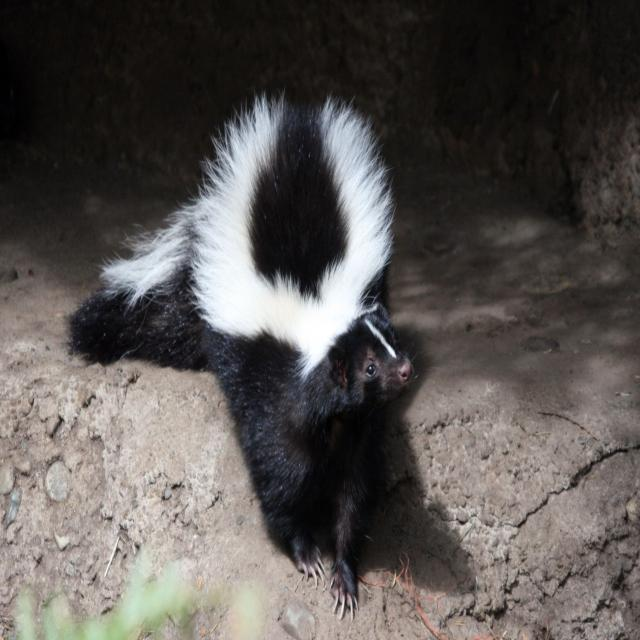Skunk: (53, 91, 420, 603)
